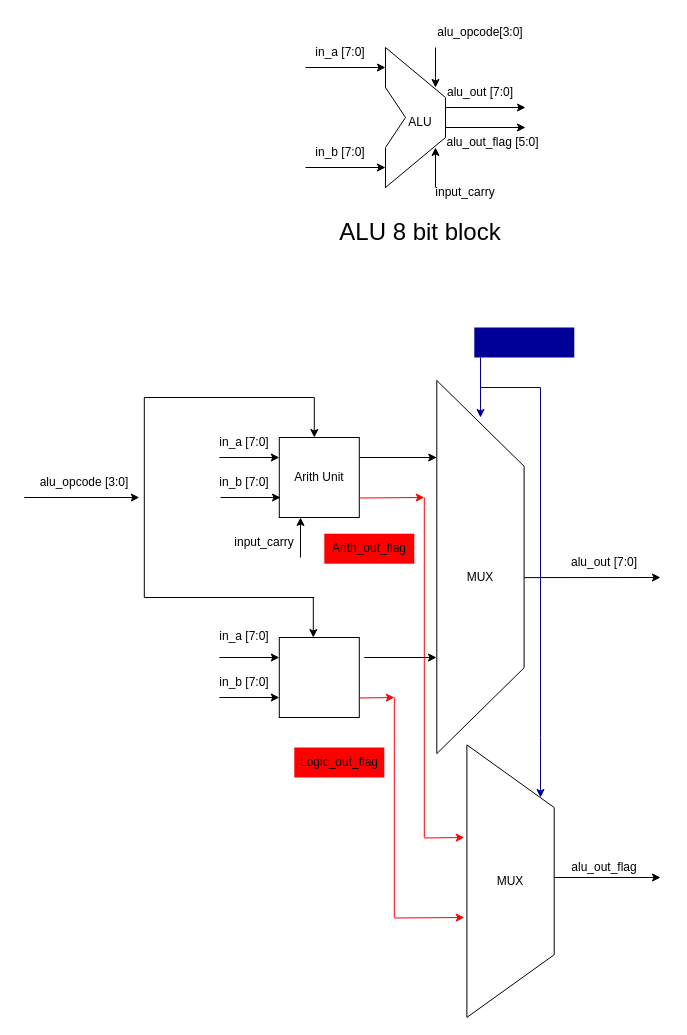
This 687x1035 diagram has some shape labels left out. Here are the shapes that lost their labels. From the top down, the centre of each, then its label:
At point 524,342: "alu_opcode[3]".
At point 318,677: "Logic Unit".
